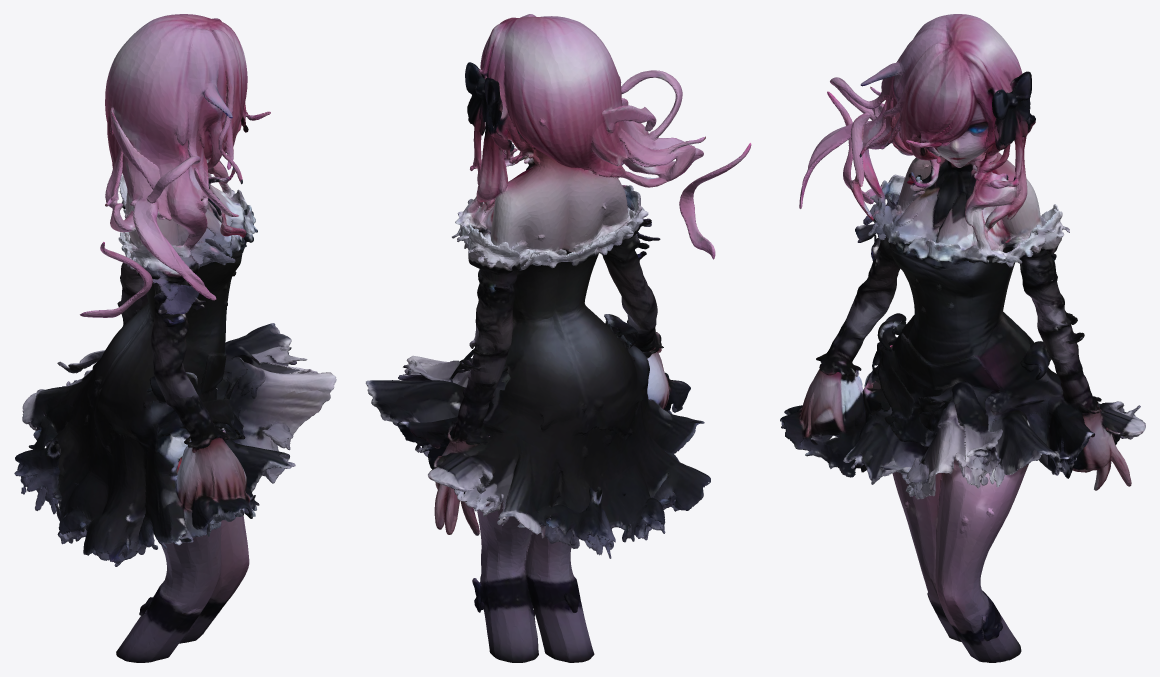
The model's file is tripo_convert_anime2.glb.
3 views of the same model, side by side, from view 1: azimuth 30°, elevation 25°; view 2: azimuth 150°, elevation 25°; view 3: azimuth 270°, elevation 25° (orthographic).
Parts seen in each view (by area): view 1: tripo_node_f3e31c00-3c2b-4197-be42-063f84282e10; view 2: tripo_node_f3e31c00-3c2b-4197-be42-063f84282e10; view 3: tripo_node_f3e31c00-3c2b-4197-be42-063f84282e10.
Part boxes in pixels (x1,y1,x2,y2): tripo_node_f3e31c00-3c2b-4197-be42-063f84282e10: (14,14,336,662); tripo_node_f3e31c00-3c2b-4197-be42-063f84282e10: (365,14,751,662); tripo_node_f3e31c00-3c2b-4197-be42-063f84282e10: (780,14,1145,662).
Size of the model in its own units: 0.4785 by 0.9999 by 0.5306.
Materials: 1 (1 with a texture image).
